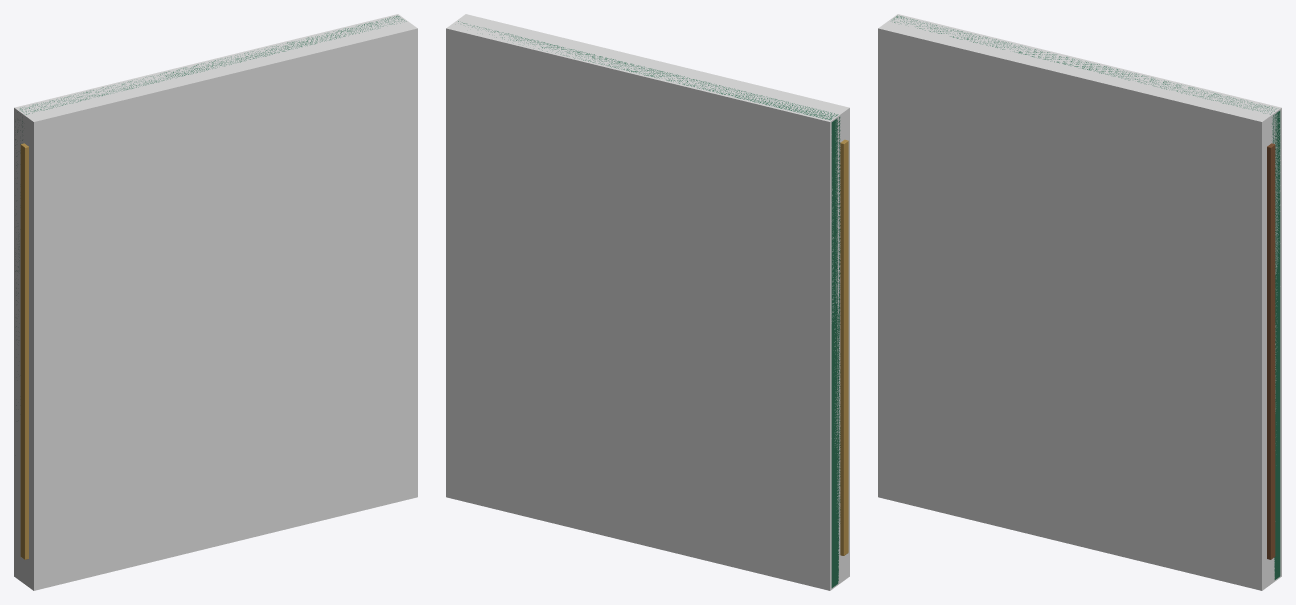
File: window-treatment_luxury.glb
3 views of the same model, side by side, from view 1: azimuth 30°, elevation 25°; view 2: azimuth 150°, elevation 25°; view 3: azimuth 330°, elevation 25° (orthographic).
Parts seen in each view (by area): view 1: COL_window-treatment, MESH_FinishPanel_01, MESH_FinishBase; view 2: COL_window-treatment, MESH_FinishBase, MESH_FinishPanel_01; view 3: COL_window-treatment, MESH_FinishBase, MESH_FinishPanel_08.
Boxes of the visible parts, x1,y1,x2,y2 form: COL_window-treatment: (14, 14, 417, 590); MESH_FinishPanel_01: (20, 143, 28, 559); MESH_FinishBase: (15, 15, 406, 405); COL_window-treatment: (446, 14, 849, 590); MESH_FinishBase: (458, 21, 840, 587); MESH_FinishPanel_01: (840, 139, 848, 555); COL_window-treatment: (878, 14, 1281, 590); MESH_FinishBase: (892, 15, 1280, 579); MESH_FinishPanel_08: (1267, 143, 1275, 559).
Bounding box in the file's own units: 1.84 × 2.1 × 0.16.
